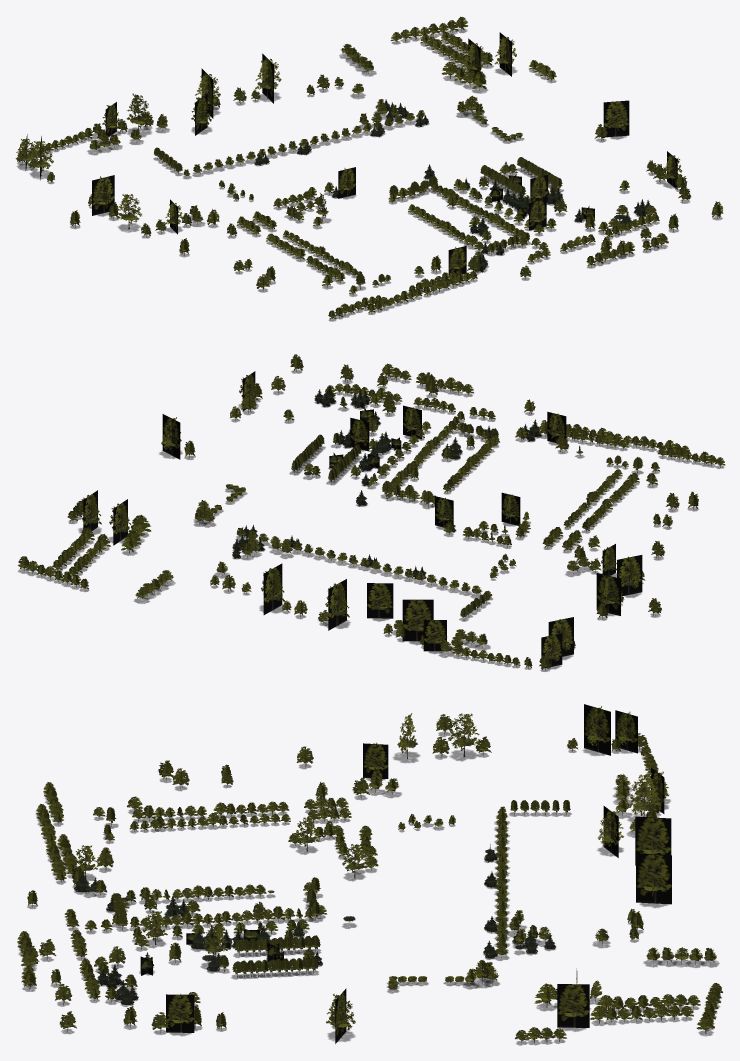
Rendered from trees-cross.dae.
3 views of the same model, one above another, from view 1: azimuth 30°, elevation 25°; view 2: azimuth 150°, elevation 25°; view 3: azimuth 270°, elevation 25° (orthographic). The views are drawn at different scales.
Parts seen in each view (by area): view 1: V-copac-A (×6); view 2: V-copac-A (×14); view 3: V-copac-A (×11).
Part boxes in pixels (x1=…): V-copac-A (×6): x1=92, y1=32, x2=629, y2=215; V-copac-A (×14): x1=79, y1=414, x2=642, y2=668; V-copac-A (×11): x1=166, y1=704, x2=671, y2=1043.
Size of the model in its own units: 49066 by 46833 by 3757.
14 materials, 14 textured.
